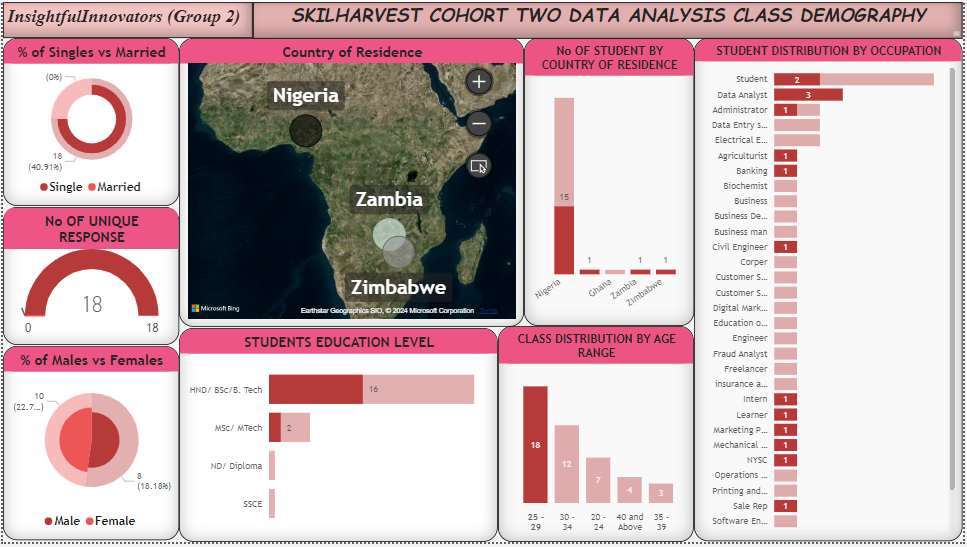

The dashboard page shown, as its layout file describes it:
{"tool":"powerbi","page":{"name":"Page 1","canvas":[1280,720],"ordinal":0},"visuals":[{"type":"map","fields":{"Category":["Form Responses 1.Country of Residence"]},"box":[234.7,48,460,385.3],"z":1000},{"type":"pieChart","title":"% of Males vs Females","fields":{"Category":["Form Responses 1.Gender"],"Y":["CountNonNull(Form Responses 1.Gender)"]},"box":[0,458.7,234.7,258.7],"z":2000},{"type":"donutChart","title":"% of Singles vs Married","fields":{"Y":["CountNonNull(Form Responses 1.Marital Status)"],"Category":["Form Responses 1.Marital Status"]},"box":[0,48,234.7,224],"z":3000},{"type":"textbox","title":"SKILHARVEST COHORT TWO DATA ANALYSIS CLASS DEMOGRAPHY","box":[333.9,0,946.1,48.5],"z":4000},{"type":"textbox","box":[0,0,333.3,48],"z":5000},{"type":"clusteredColumnChart","title":"CLASS DISTRIBUTION BY AGE RANGE","fields":{"Category":["Form Responses 1.Age Range"],"Y":["CountNonNull(Form Responses 1.Age Range)"]},"box":[660,432,261.3,288],"z":6000},{"type":"gauge","title":"No OF UNIQUE RESPONSE","fields":{"Y":["Count(Form Responses 1.Names)"],"MaxValue":["Count(Form Responses 1.Names)"]},"box":[0,273.3,234.7,184],"z":7000},{"type":"clusteredBarChart","title":"STUDENTS EDUCATION LEVEL","fields":{"Category":["Form Responses 1.Highest level of Education"],"Y":["CountNonNull(Form Responses 1.Highest level of Education)"]},"box":[234.7,434.7,425.3,285.3],"z":8000},{"type":"clusteredBarChart","title":"STUDENT DISTRIBUTION BY OCCUPATION","fields":{"Category":["Form Responses 1.Occupation"],"Y":["CountNonNull(Form Responses 1.Occupation)"]},"box":[921.8,48.5,358.2,670.7],"z":9000},{"type":"clusteredColumnChart","title":"No OF STUDENT BY COUNTRY OF RESIDENCE","fields":{"Category":["Form Responses 1.Country of Residence"],"Y":["Count(Form Responses 1.Names)"]},"box":[694.7,48,226.7,384],"z":9001}]}

Visuals, with their boxes in screenshot pixels (x1, y1, x2, y2), scaled from the page's 1280x720 canvas onto the 967x547 screenshot:
map - Form Responses 1.Country of Residence: Rect(177, 36, 525, 329)
"% of Males vs Females" pieChart: Rect(0, 348, 177, 545)
"% of Singles vs Married" donutChart: Rect(0, 36, 177, 207)
"SKILHARVEST COHORT TWO DATA ANALYSIS CLASS DEMOGRAPHY" textbox: Rect(252, 0, 966, 37)
textbox: Rect(0, 0, 252, 36)
"CLASS DISTRIBUTION BY AGE RANGE" clusteredColumnChart: Rect(499, 328, 696, 546)
"No OF UNIQUE RESPONSE" gauge: Rect(0, 208, 177, 347)
"STUDENTS EDUCATION LEVEL" clusteredBarChart: Rect(177, 330, 499, 546)
"STUDENT DISTRIBUTION BY OCCUPATION" clusteredBarChart: Rect(696, 37, 966, 546)
"No OF STUDENT BY COUNTRY OF RESIDENCE" clusteredColumnChart: Rect(525, 36, 696, 328)
